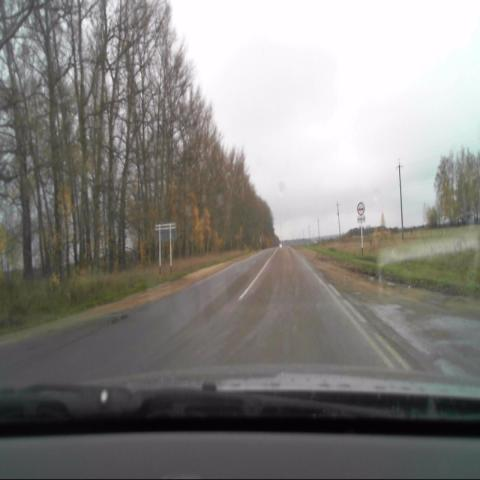3_20: (357, 200, 365, 214)
